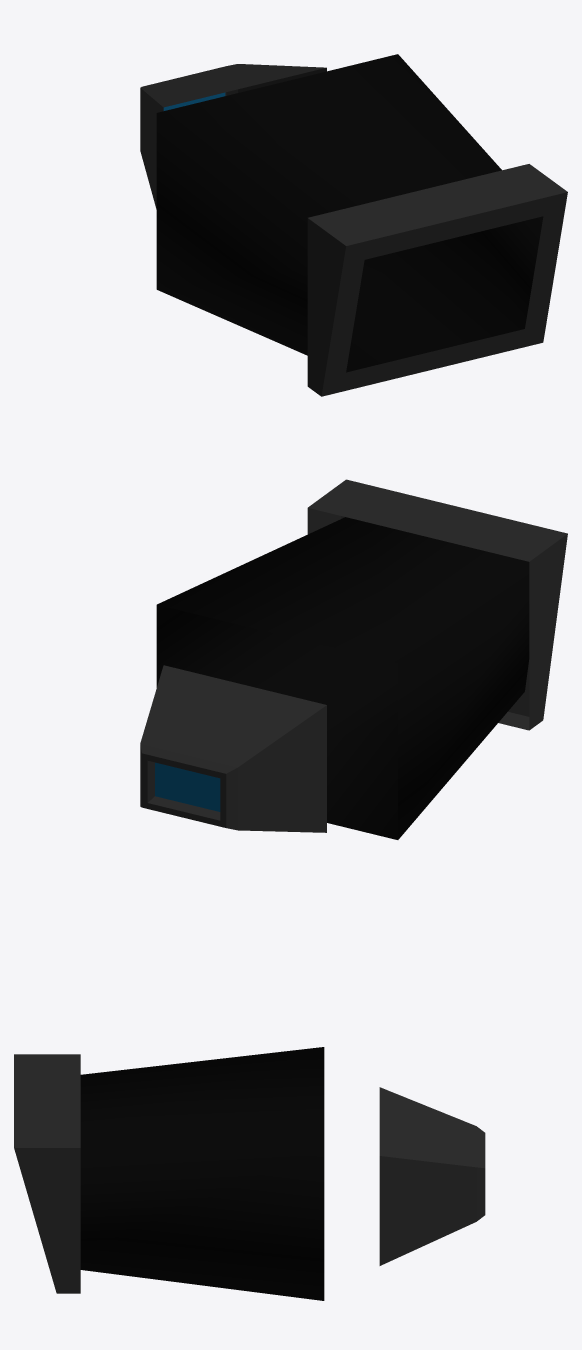
Rendered from TankSight_wedge_SQ_1x1.fbx.
3 views of the same model, one above another, from view 1: azimuth 30°, elevation 25°; view 2: azimuth 150°, elevation 25°; view 3: azimuth 270°, elevation 25° (orthographic). The views are drawn at different scales.
Visible parts, largest first — view 1: Cube.001; view 2: Cube.001; view 3: Cube.001.
Part boxes in pixels (left/top/right/bottom): Cube.001: left=140, top=54, right=567, bottom=396; Cube.001: left=140, top=479, right=567, bottom=839; Cube.001: left=14, top=1047, right=485, bottom=1300.
Bounding box in the file's own units: 1 × 2.27 × 1.
